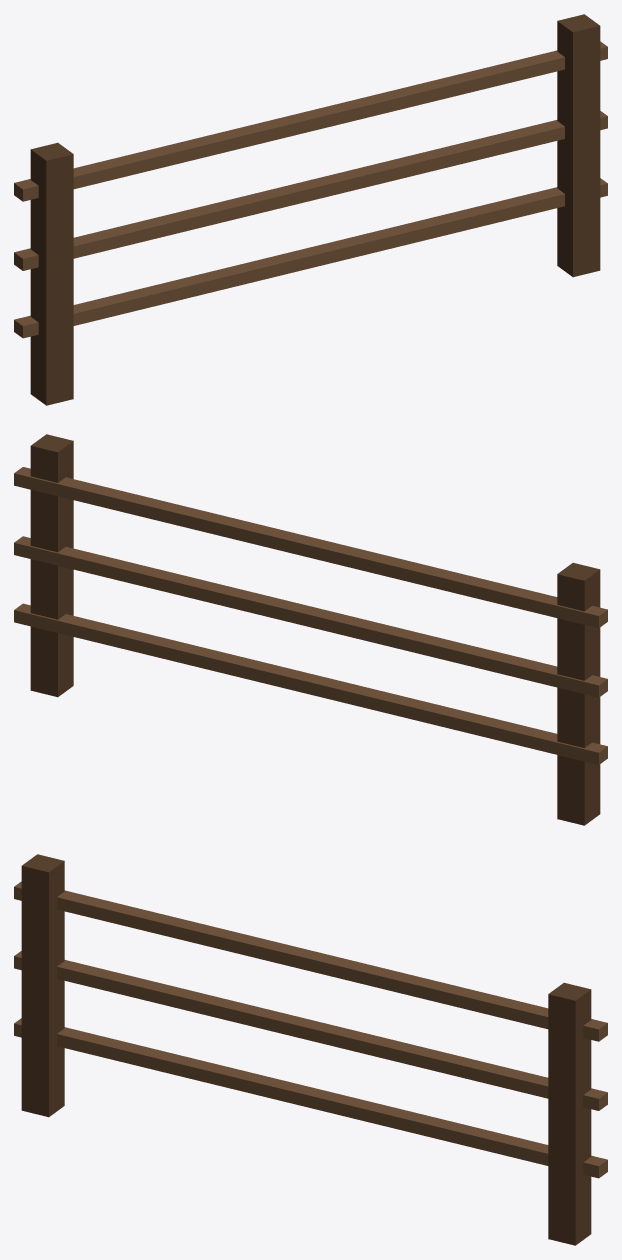
The model's file is pasture_fence.glb.
The picture shows the model from 3 angles, top to bottom: view 1: azimuth 30°, elevation 25°; view 2: azimuth 150°, elevation 25°; view 3: azimuth 330°, elevation 25°; orthographic projection.
Visible parts, largest first — view 1: pasture_fence; view 2: pasture_fence; view 3: pasture_fence.
Boxes of the visible parts, x1=… form: pasture_fence: x1=14, y1=14, x2=607, y2=405; pasture_fence: x1=14, y1=434, x2=607, y2=825; pasture_fence: x1=14, y1=854, x2=607, y2=1245.
Size of the model in its own units: 3 by 1.2 by 0.15.
